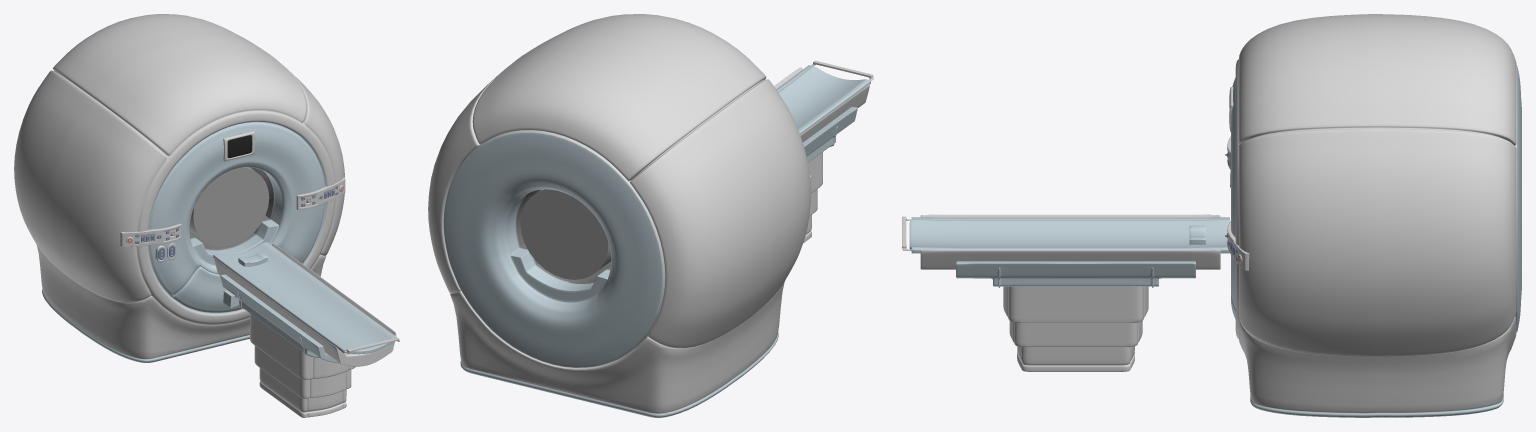
File: uploads_files_4069553_MRI.fbx
3 renders of one model, left to right at view 1: azimuth 30°, elevation 25°; view 2: azimuth 150°, elevation 25°; view 3: azimuth 270°, elevation 25°, orthographic. The views are drawn at different scales.
Parts seen in each view (by area): view 1: polySurface1758, polySurface1796, Light, polySurface1797, polySurface1791, polySurface1792, polySurface1790, polySurface1789, polySurface1759, polySurface1761, polySurface1765; view 2: polySurface1758, Light, polySurface1796, polySurface1792, polySurface1797, polySurface1791; view 3: polySurface1758, polySurface1796, polySurface1792, polySurface1791, polySurface1797, polySurface1790, polySurface1789.
Boxes of the visible parts, x1,y1,x2,y2 form: polySurface1758: (14,14,344,362); polySurface1796: (213,242,396,354); Light: (189,167,269,246); polySurface1797: (214,243,396,366); polySurface1791: (250,313,355,379); polySurface1792: (220,274,338,363); polySurface1790: (254,345,351,398); polySurface1789: (259,368,346,417); polySurface1759: (120,223,181,247); polySurface1761: (296,177,345,209); polySurface1765: (227,135,252,158); polySurface1758: (428,14,810,417); Light: (520,189,611,279); polySurface1796: (776,65,870,134); polySurface1792: (803,106,857,162); polySurface1797: (774,67,869,142); polySurface1791: (808,152,822,193); polySurface1758: (1231,14,1521,417); polySurface1796: (909,217,1230,253); polySurface1792: (956,261,1195,287); polySurface1791: (1003,286,1148,322); polySurface1797: (920,214,1220,269); polySurface1790: (1009,321,1142,346); polySurface1789: (1017,346,1134,371).
Bounding box in the file's own units: 70.2 × 69.19 × 118.
